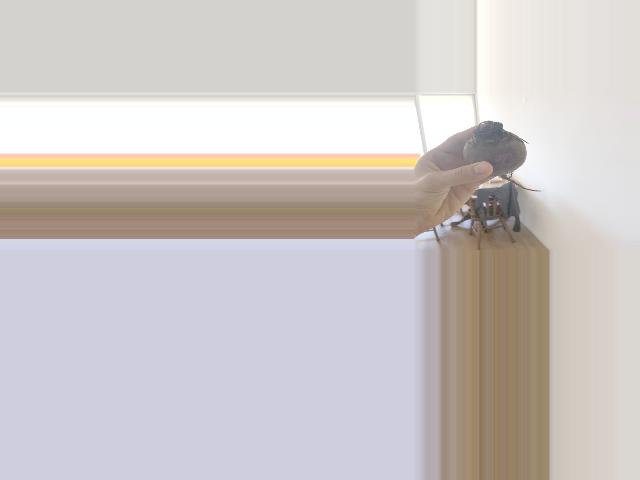beet: (463, 120, 543, 192)
